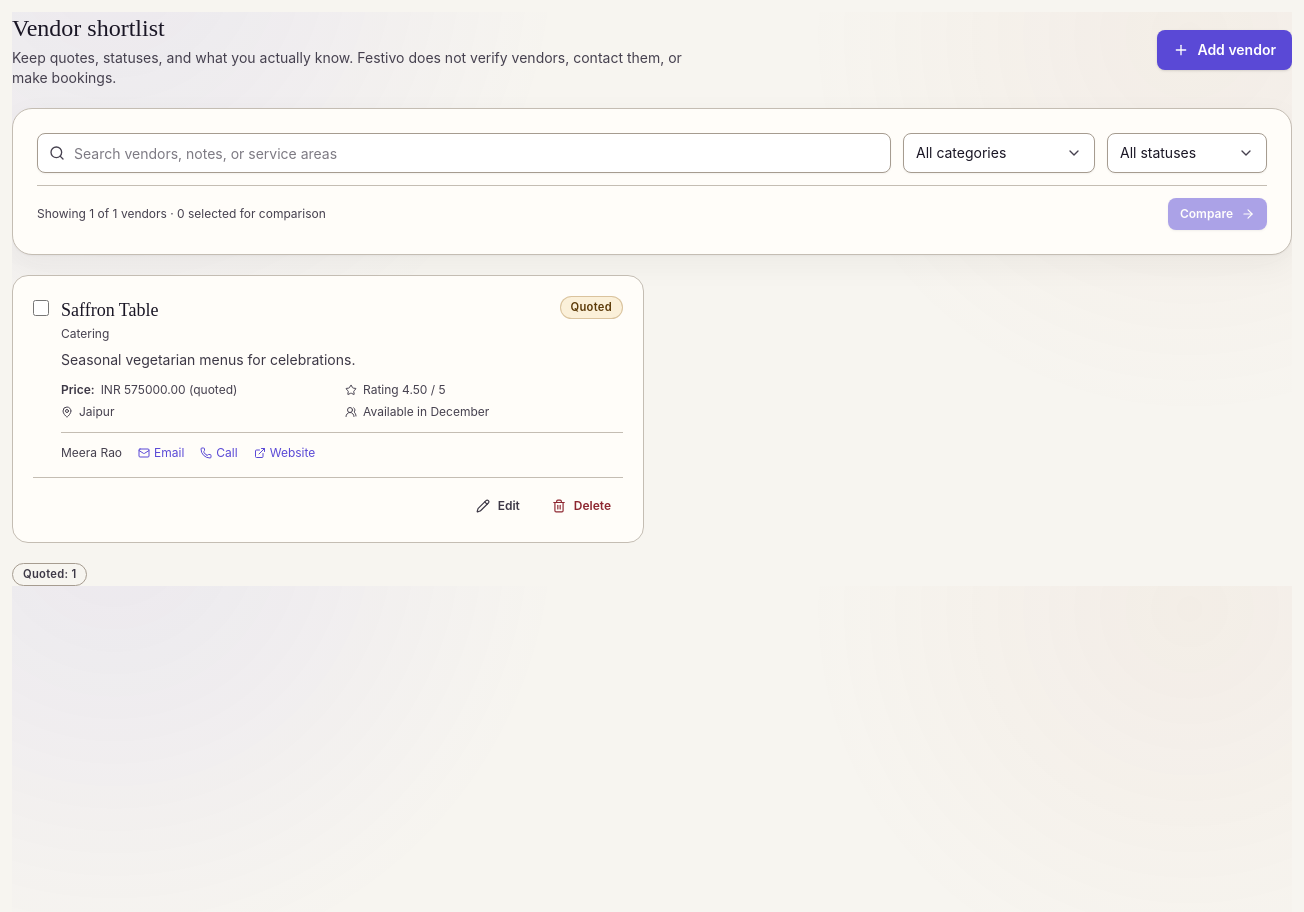
Test: vendors page › renders vendor records and comparison selection
This screenshot has width=1304, height=912.
Expected: the heading "Vendor shortlist" is shown, [12,15,165,41]
Expected: the heading "Saffron Table" is shown, [61,300,159,320]
Click the checkbox named "Select Saffron Table for comparison" at [41, 308], box [33,300,49,316]
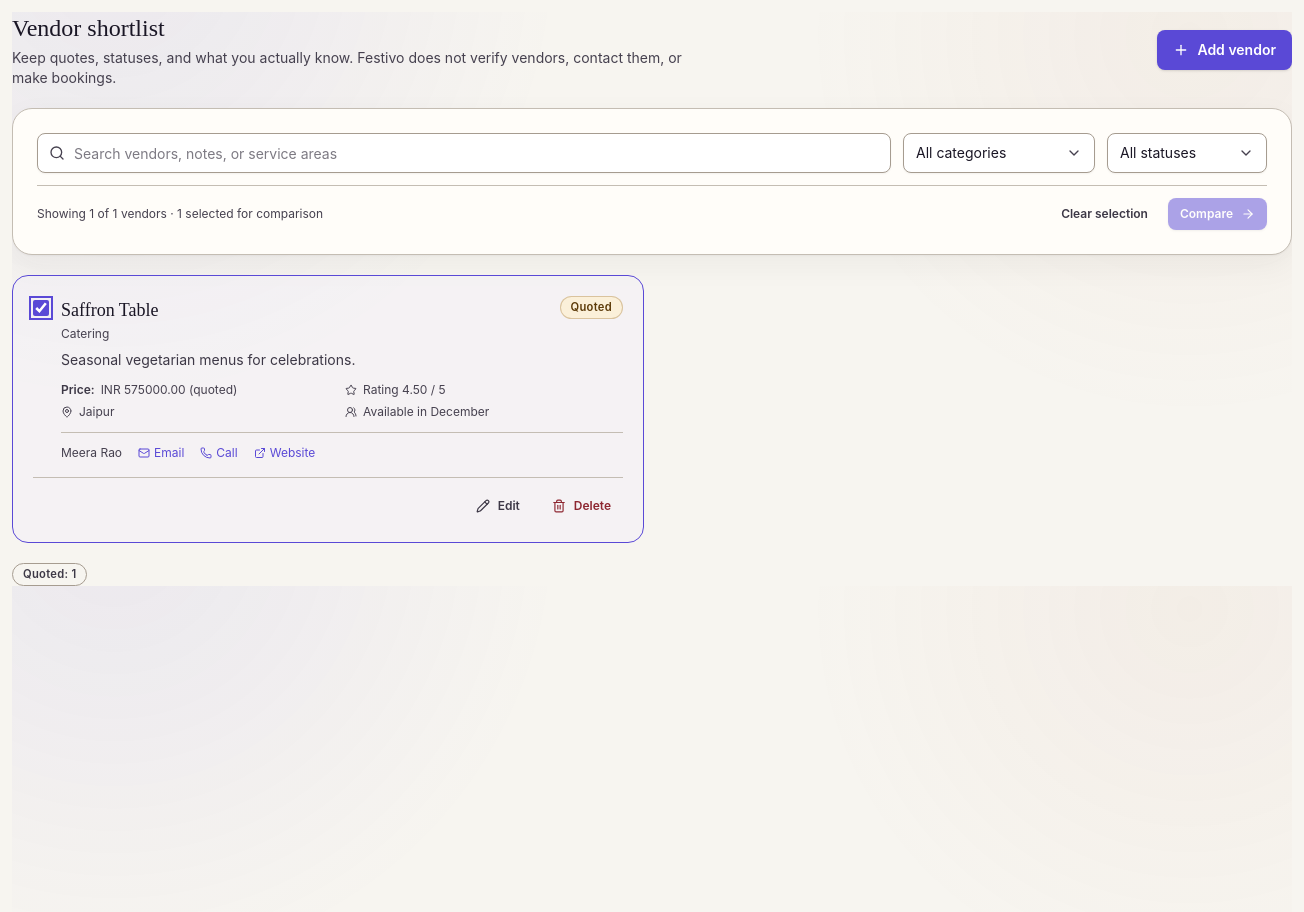
Expected: the button "Compare" is disabled, [1168,198,1267,230]
Expected: the text "Showing 1 of 1 vendors · 1 selected for comparison" is shown, [37,206,323,222]
